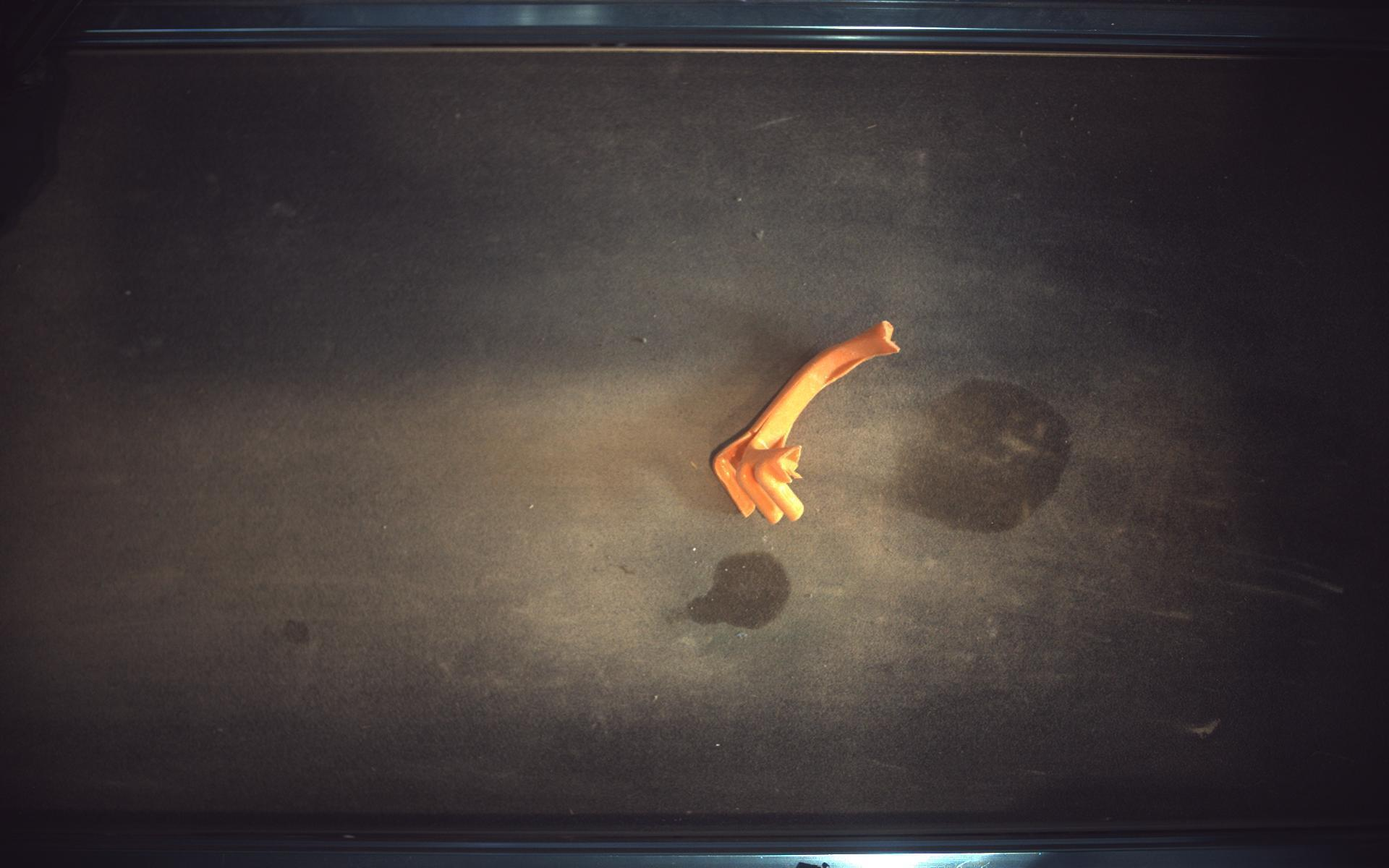general_w: (711, 320, 901, 524)
